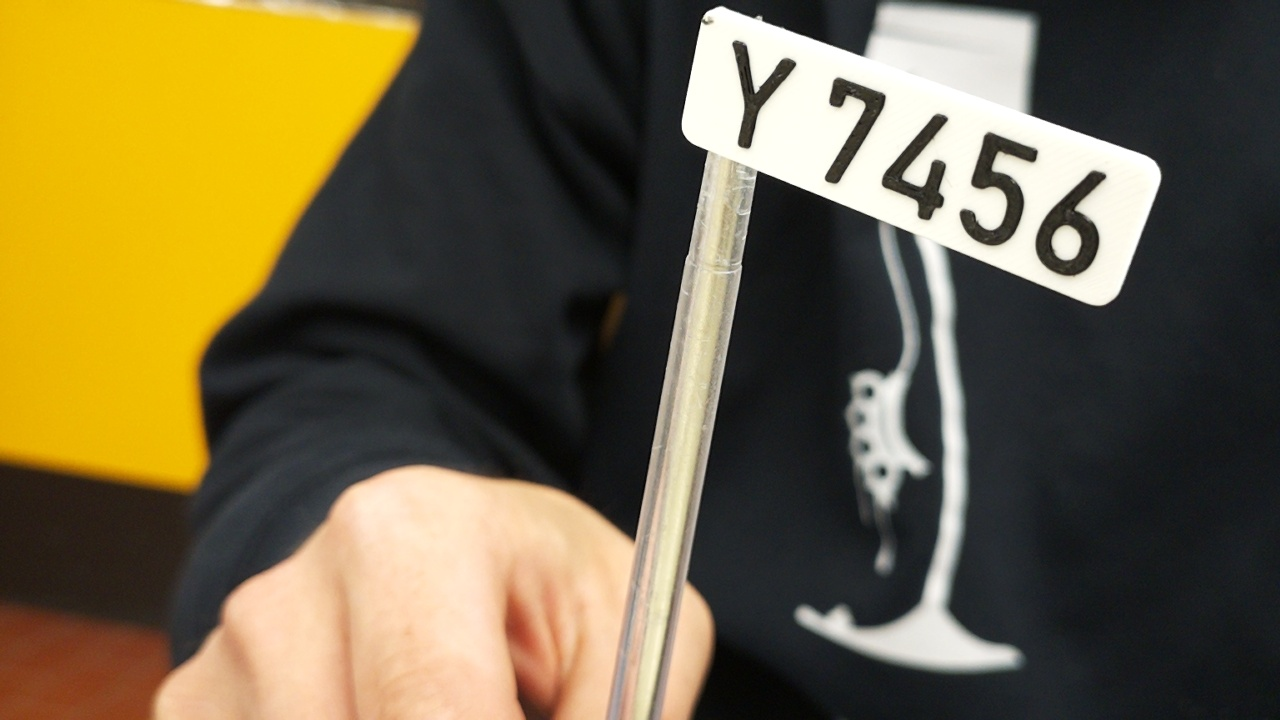license_plate: (677, 5, 1163, 307)
